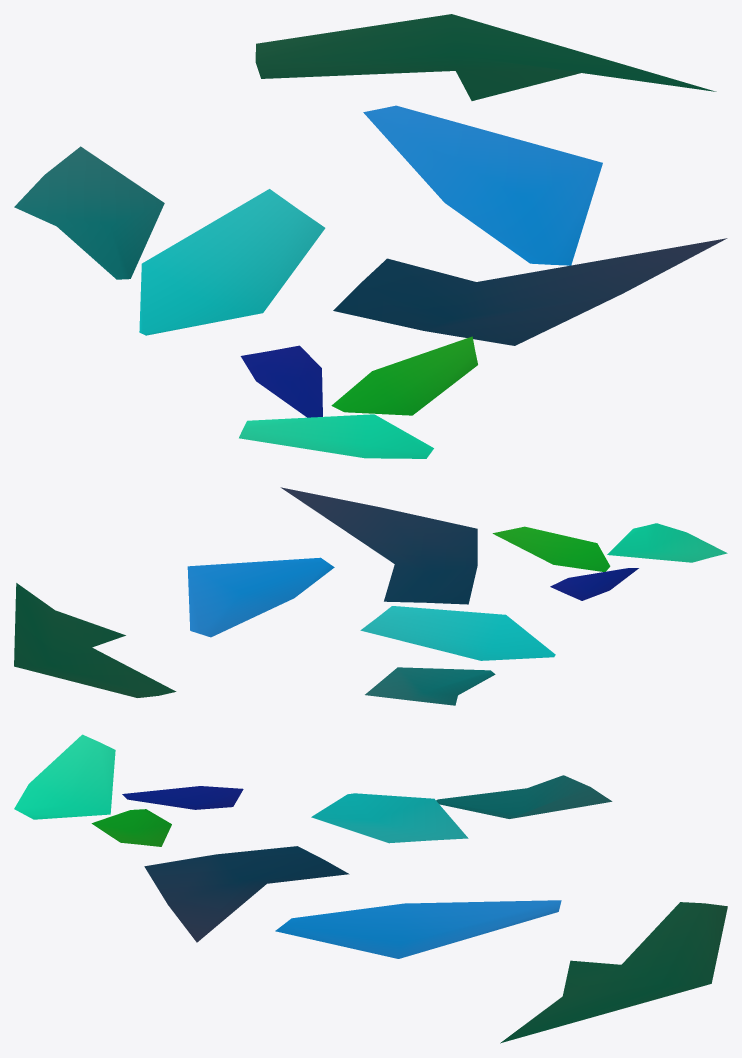
The model's file is Creeping_Saltbush_thckfiqr_Mid_thckfiqr_VarF_LOD0.fbx.
3 renders of one model, top to bottom at view 1: azimuth 30°, elevation 25°; view 2: azimuth 150°, elevation 25°; view 3: azimuth 270°, elevation 25°, orthographic. The views are drawn at different scales.
Visible parts, largest first — view 1: _4a8c_VarF_LOD1; view 2: _4a8c_VarF_LOD1; view 3: _4a8c_VarF_LOD1.
Part boxes in pixels (<box>): _4a8c_VarF_LOD1: <box>14,14,727,458</box>; _4a8c_VarF_LOD1: <box>14,487,727,705</box>; _4a8c_VarF_LOD1: <box>14,734,727,1043</box>.
Size of the model in its own units: 29.5 by 1.85 by 31.12.
